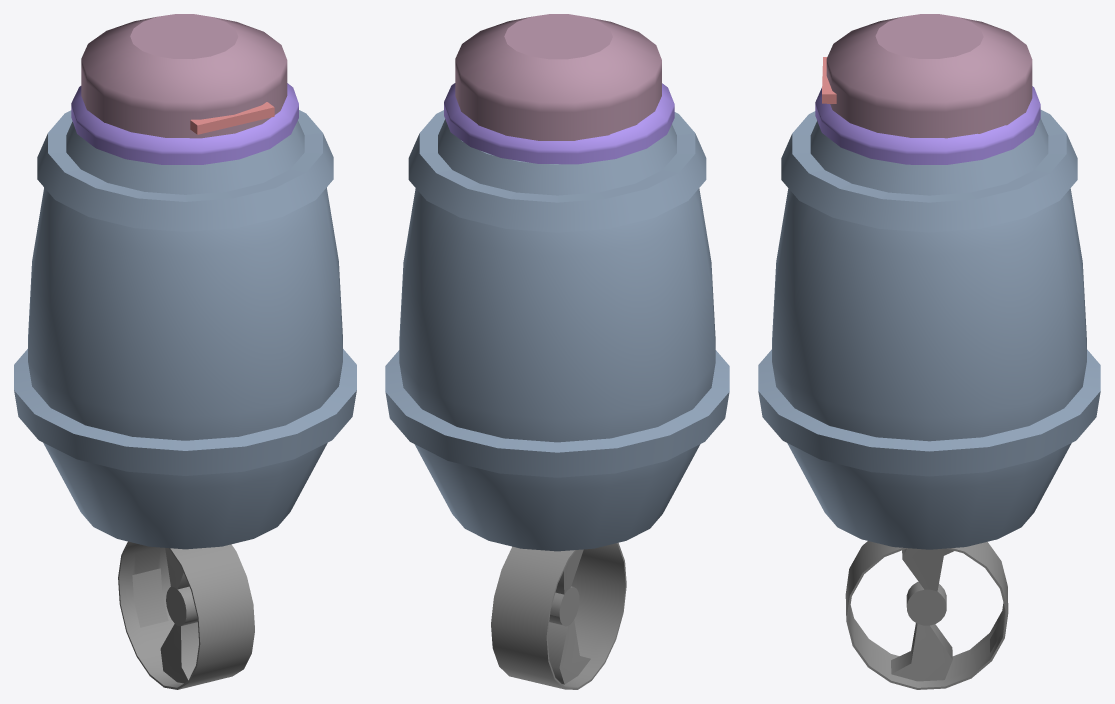
File: EnemyTank.FBX
The picture shows the model from 3 angles, left to right: view 1: azimuth 30°, elevation 25°; view 2: azimuth 150°, elevation 25°; view 3: azimuth 270°, elevation 25°; orthographic projection.
Visible parts, largest first — view 1: body, head, wheels, head supp, eyes; view 2: body, head, wheels, head supp; view 3: body, head, wheels, head supp.
Part boxes in pixels (<box>): body: <box>14,110,356,549</box>; head: <box>81,14,287,138</box>; wheels: <box>118,541,254,689</box>; head supp: <box>71,83,298,164</box>; eyes: <box>190,102,274,134</box>; body: <box>385,110,729,551</box>; head: <box>455,14,661,140</box>; wheels: <box>491,542,626,689</box>; head supp: <box>444,83,674,164</box>; body: <box>758,110,1100,549</box>; head: <box>826,14,1032,138</box>; wheels: <box>845,541,1008,689</box>; head supp: <box>815,86,1040,164</box>.
Bounding box in the file's own units: 23.2 × 47.06 × 22.85.
